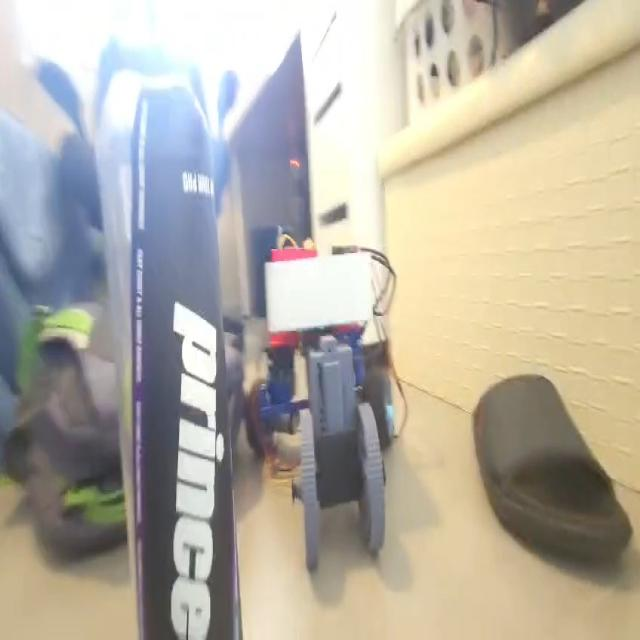Robot: (246, 243, 394, 571)
